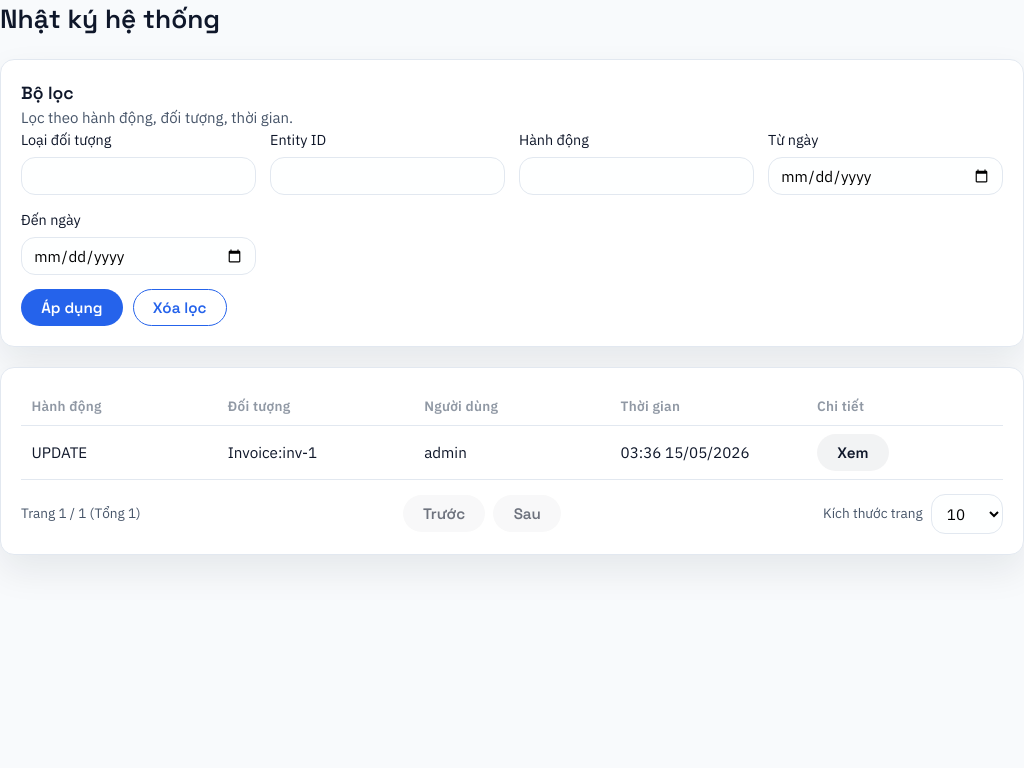
Test: AdminAuditPage › opens detail modal when clicking view
The width and height of the screenshot is (1024, 768).
Click the button "Xem" at (853, 452), box [817, 434, 889, 471]
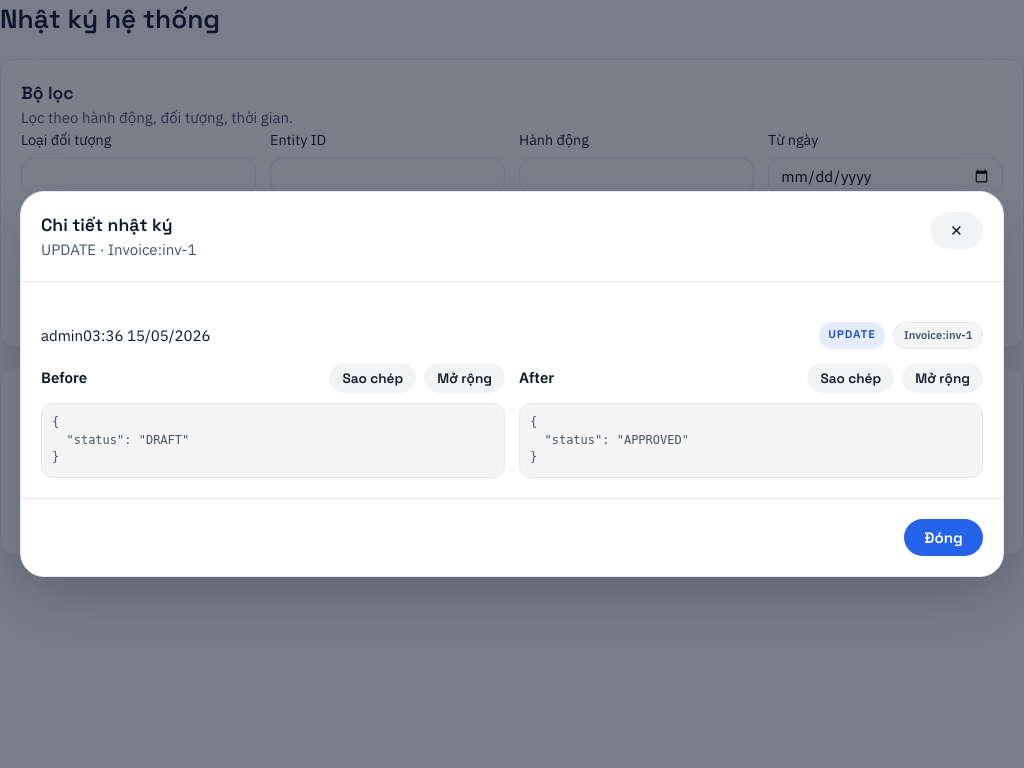
Now the dialog shows "Before", box [41, 368, 87, 387]
Now the dialog shows "After", box [519, 368, 554, 387]
Now the dialog shows "\"status\": \"DRAFT\"", box [52, 415, 189, 464]
